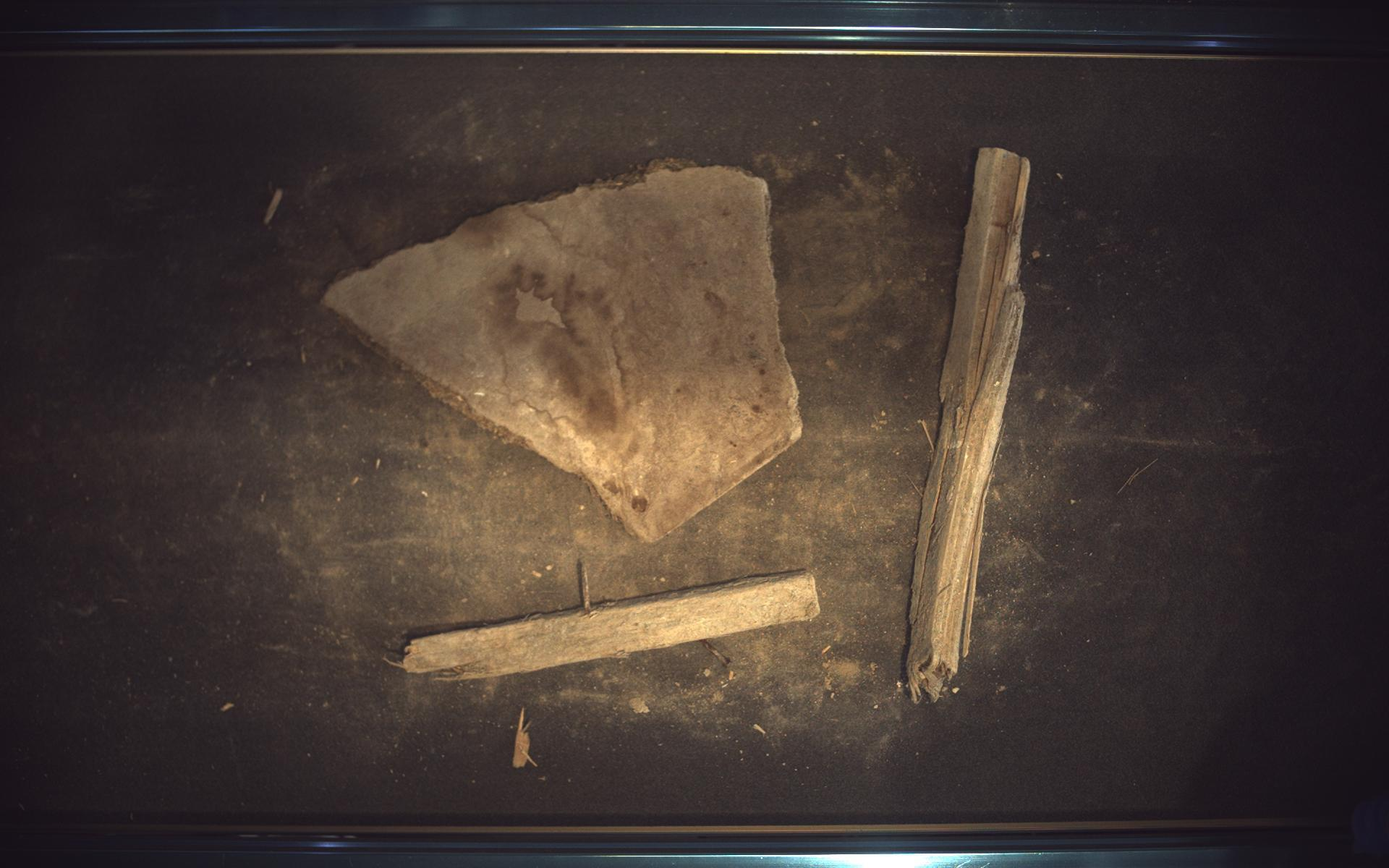wood: (908, 148, 1032, 703)
